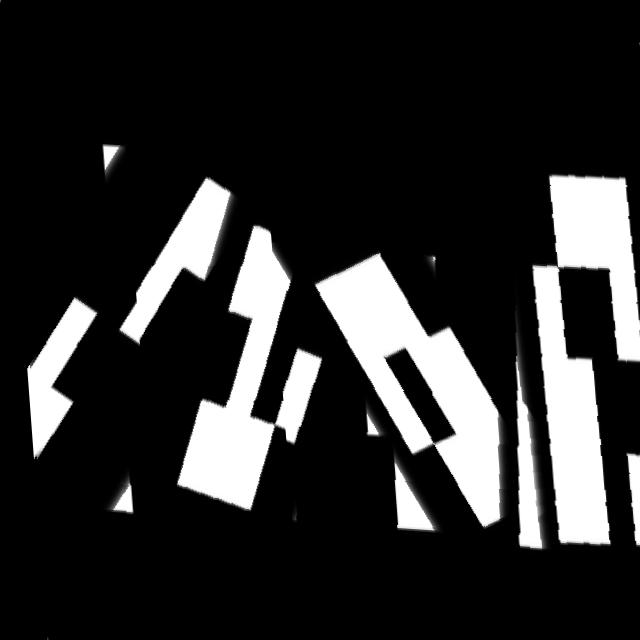aruco: (256, 38, 576, 640), (0, 3, 294, 640), (118, 61, 406, 640), (474, 33, 640, 640)
